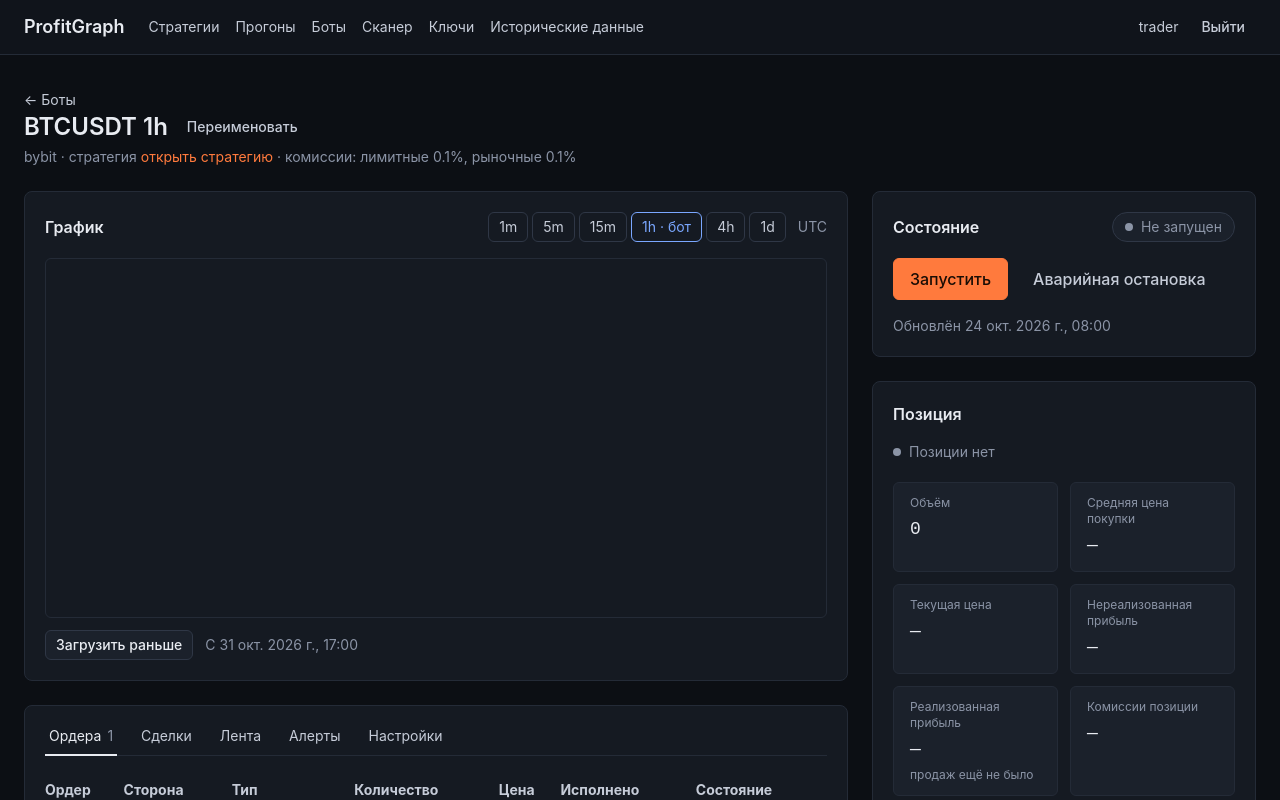
Test: bot chart › loads earlier candles once and stops where the history begins
Click the button "Загрузить раньше" at (119, 645), box [45,630,193,660]
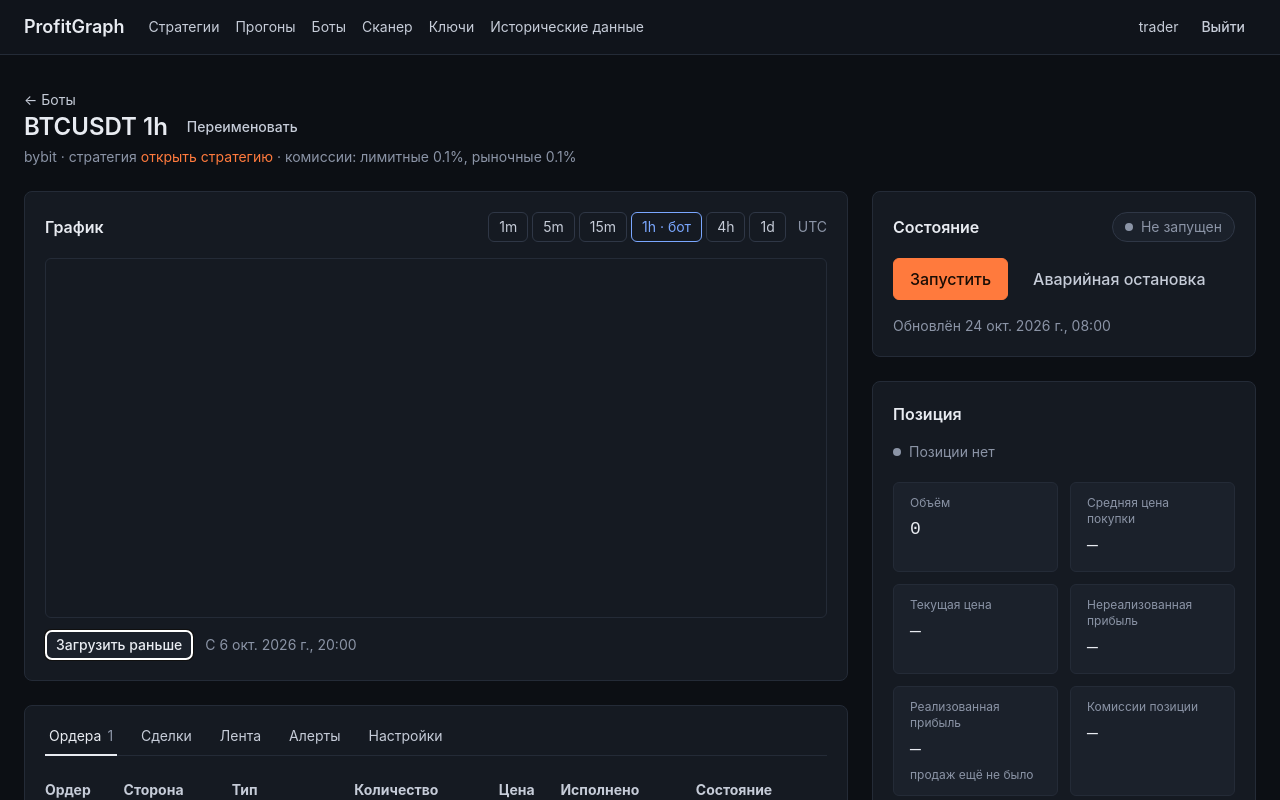
Click the button "Загрузить раньше" at (119, 645), box [45,630,193,660]
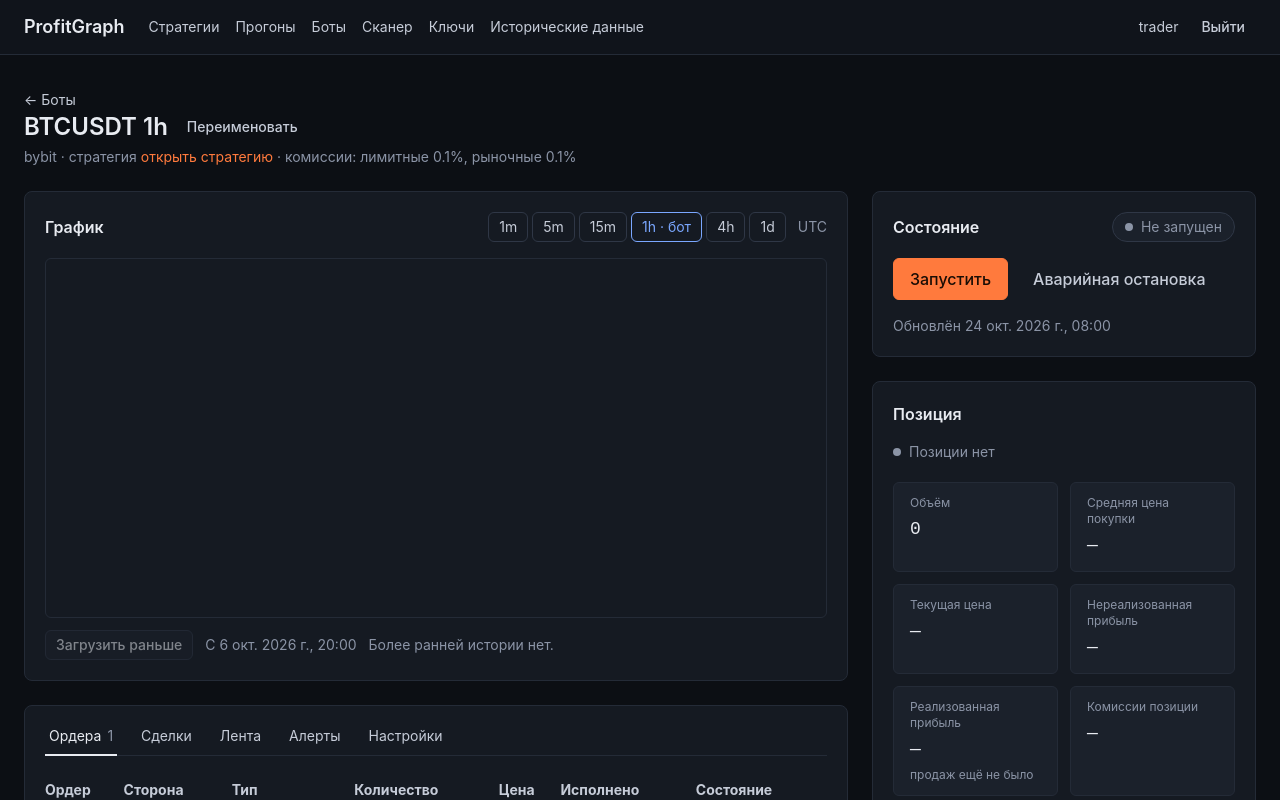
expect the text "Более ранней истории нет." is shown: met, box [368,635,554,655]
expect the button "Загрузить раньше" is disabled: met, box [45,630,193,660]
